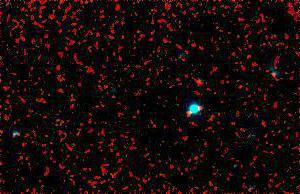star: (175, 99, 205, 129)
